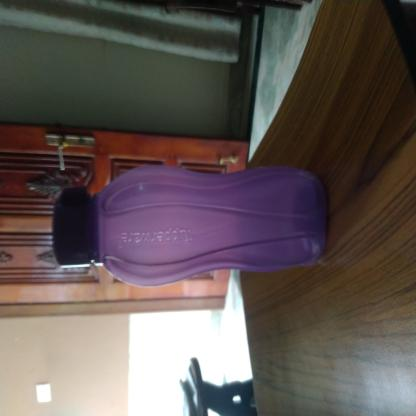bottle: (95, 68, 192, 416)
